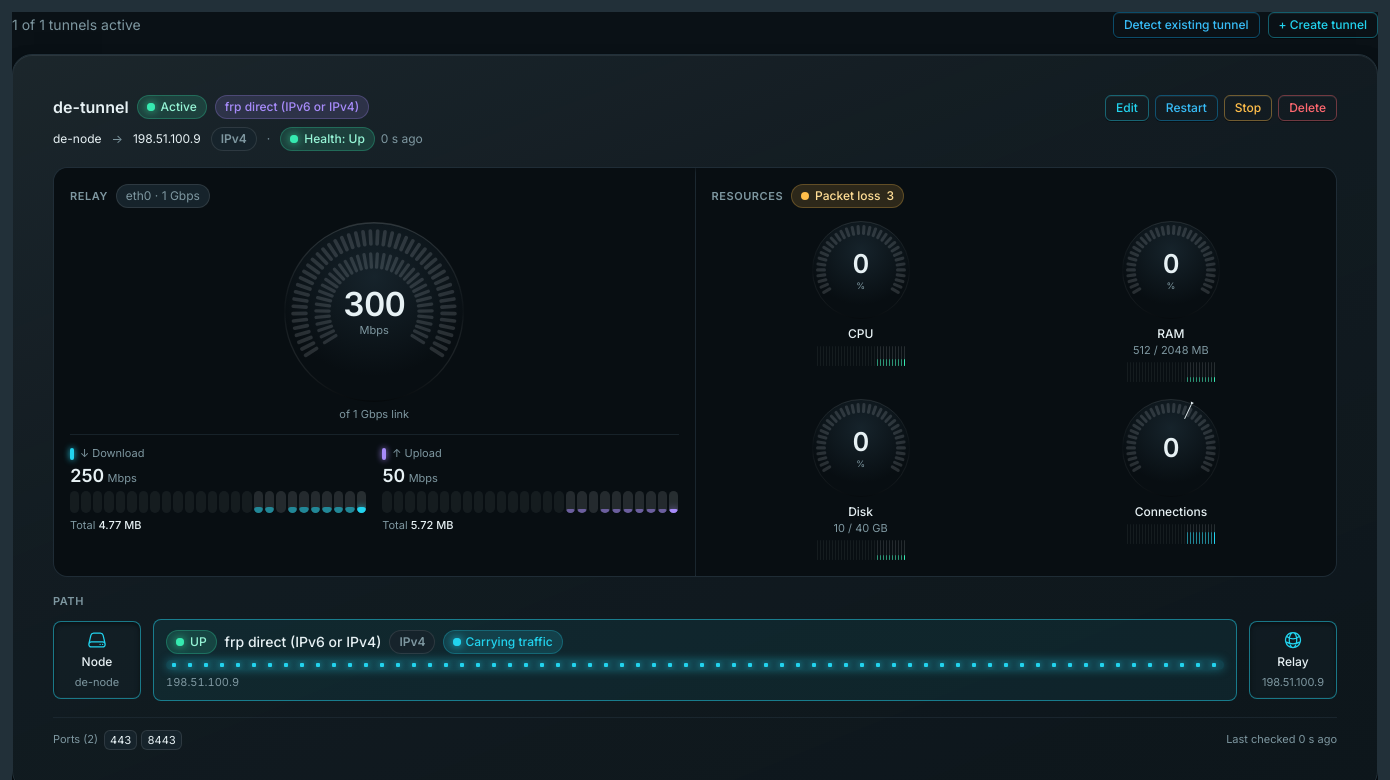
Scenario: tunnel card › asks before Restart, says what happens and how many connections it cuts, and only acts on the second click
Expected: the text "de-tunnel" is shown, [53,95,129,119]
Click the button "Restart" at coordinates (1186, 108), box [1155,95,1218,121]
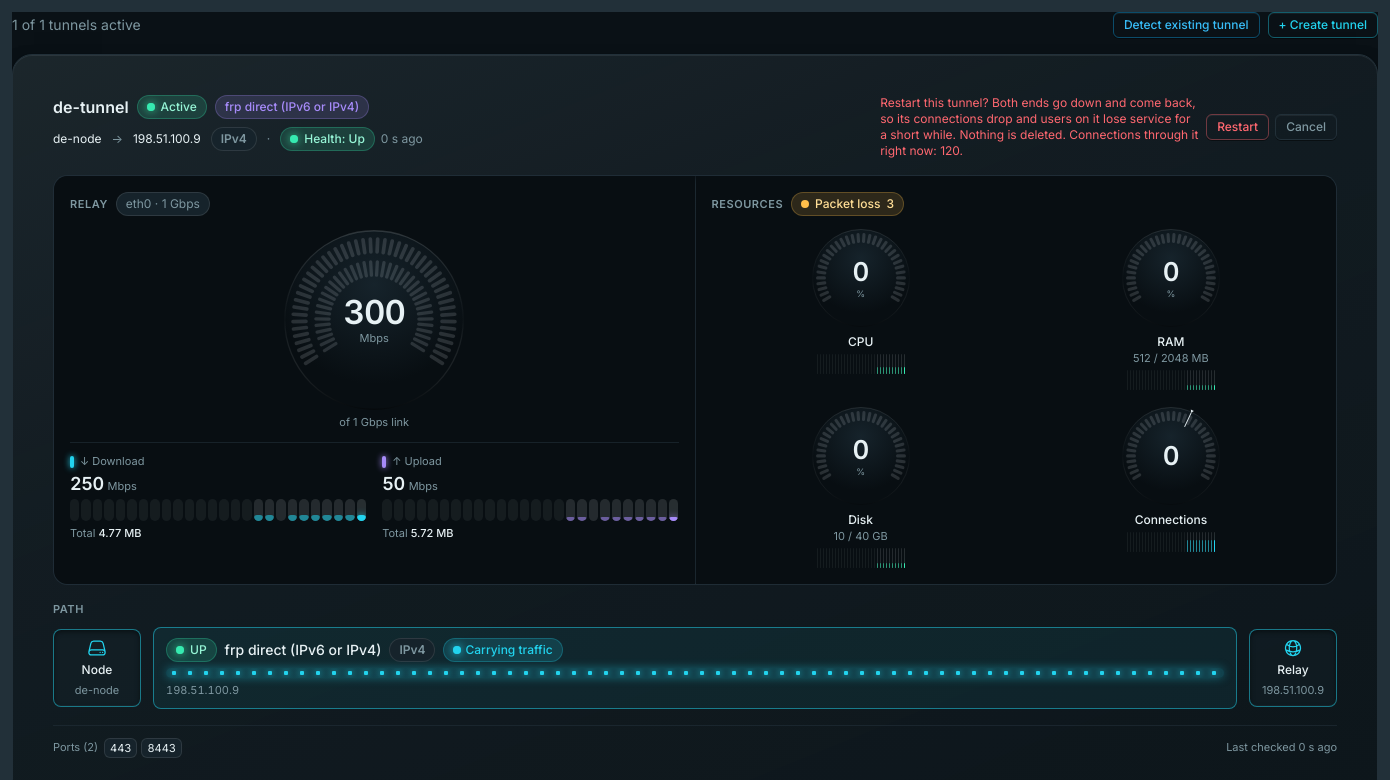
Expected: the text "lose service for a short while" shows "Nothing is deleted", [880,95,1198,158]
Click the button "Cancel" at coordinates (1306, 127), box [1275,114,1337,140]
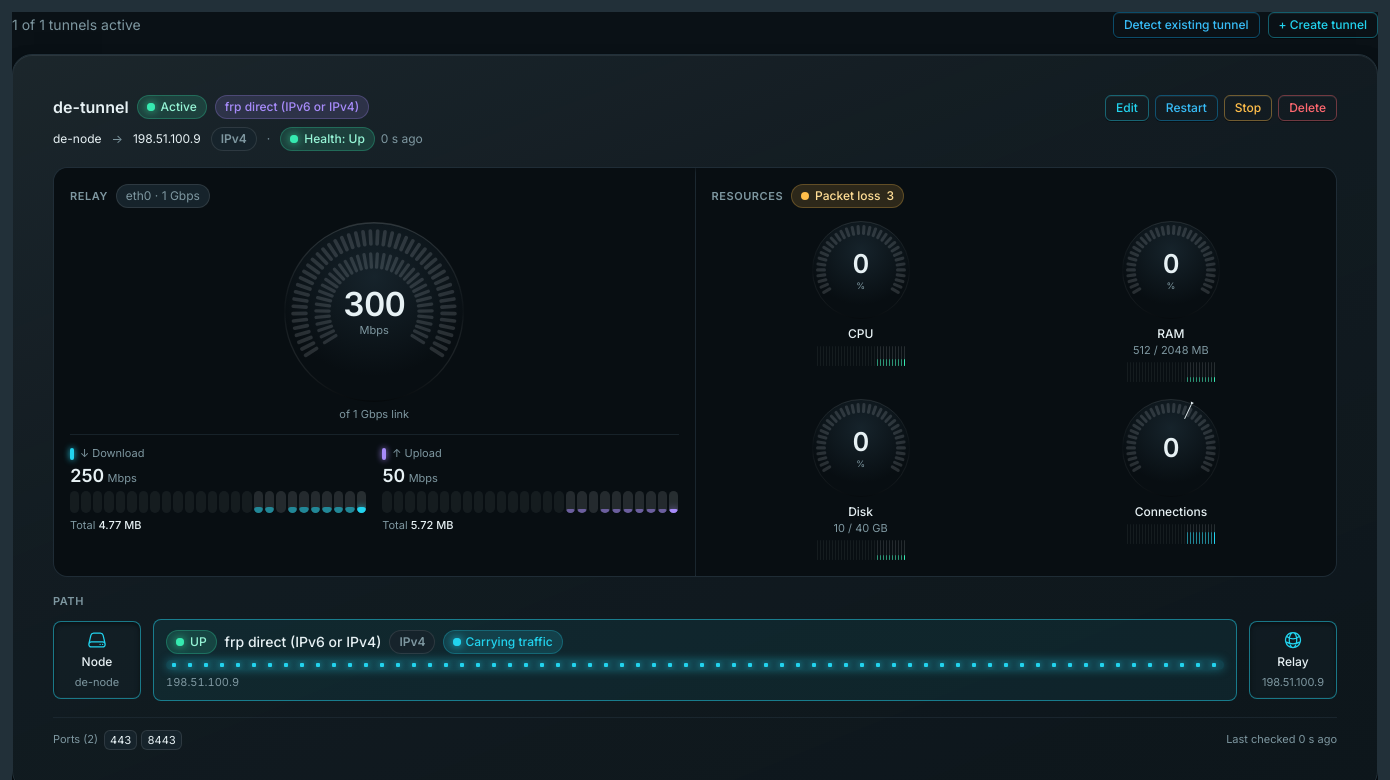
Expected: the text "lose service for a short while" is gone
Click the button "Restart" at coordinates (1186, 108), box [1155,95,1218,121]
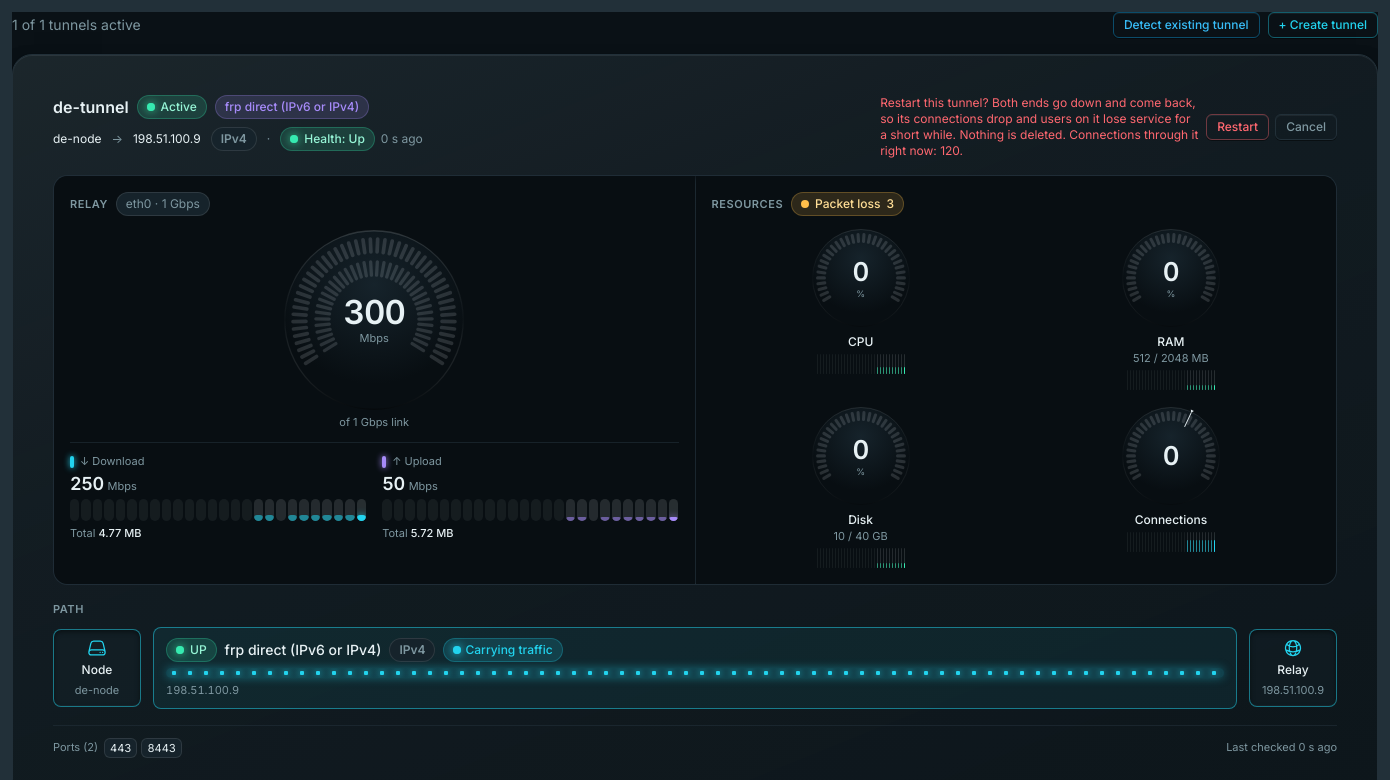
Click the button "Restart" at coordinates (1238, 127), box [1206,114,1269,140]
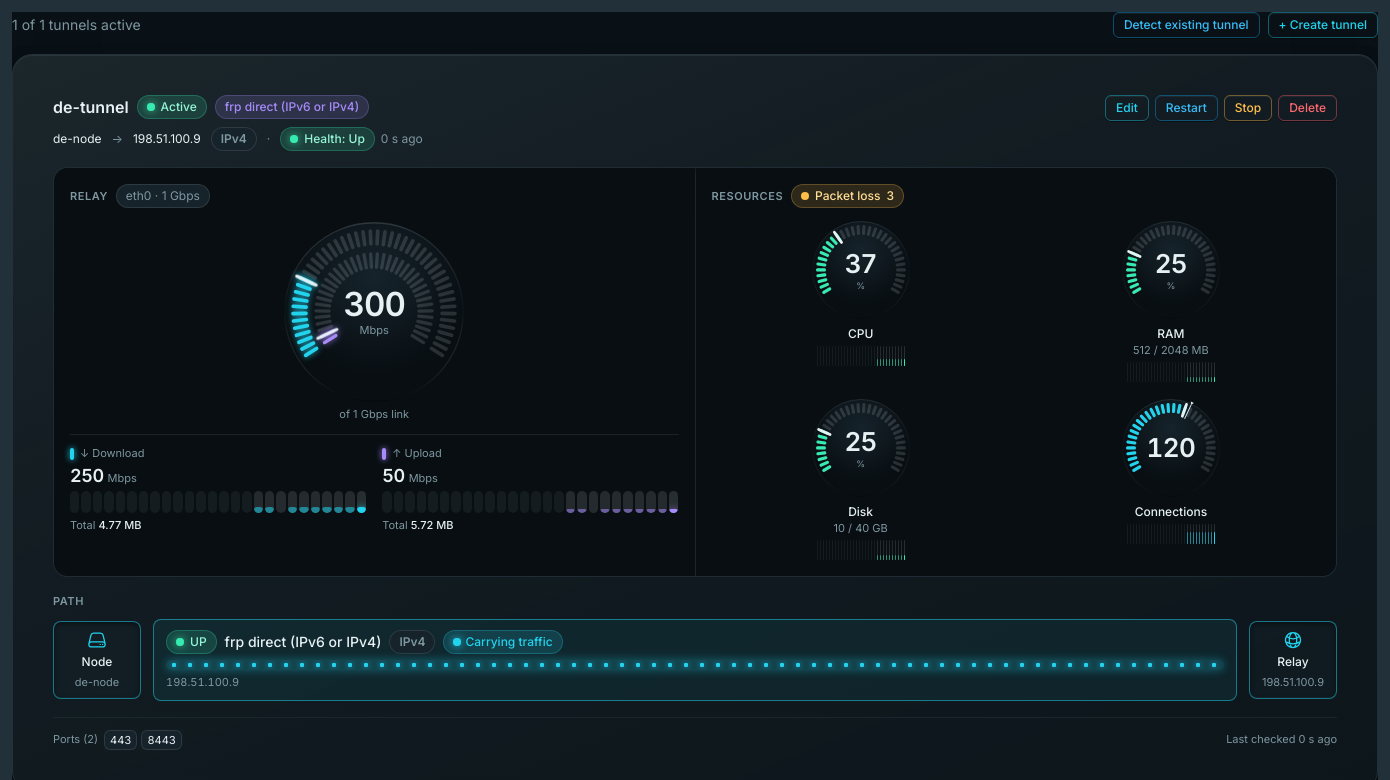
Expected: the text "lose service for a short while" is gone
